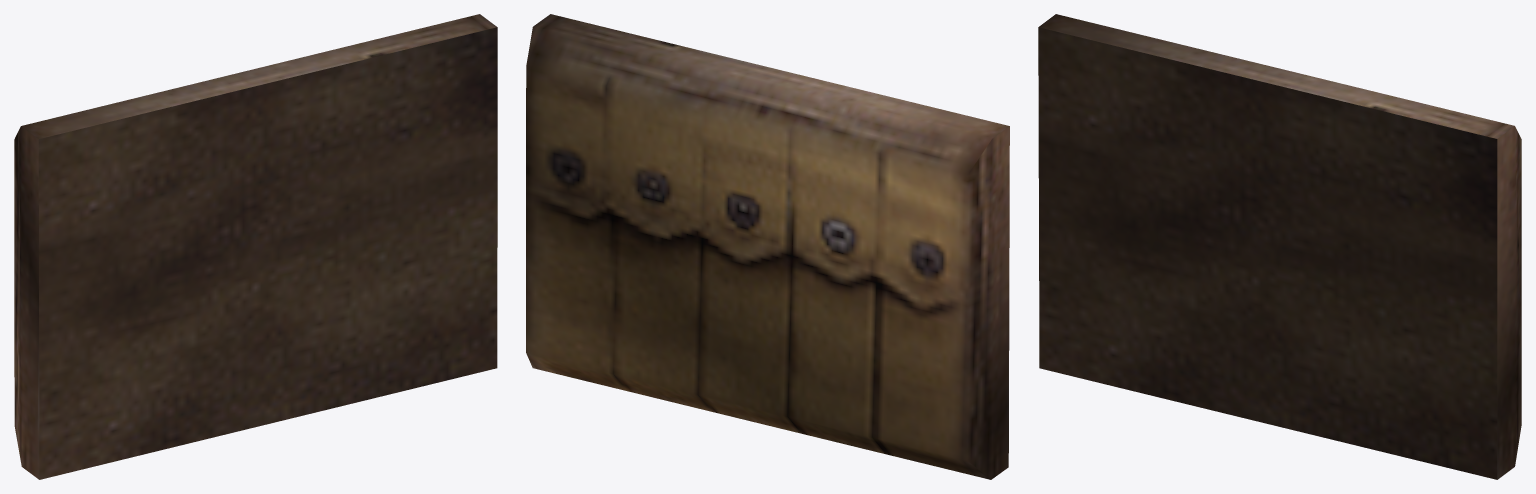
File: magazine bag.FBX
3 renders of one model, left to right at view 1: azimuth 30°, elevation 25°; view 2: azimuth 150°, elevation 25°; view 3: azimuth 330°, elevation 25°, orthographic.
Parts seen in each view (by area): view 1: magazines; view 2: magazines; view 3: magazines.
Boxes of the visible parts, bbox=[...] form: magazines: bbox=[14, 14, 497, 479]; magazines: bbox=[526, 14, 1009, 479]; magazines: bbox=[1038, 14, 1521, 479].
Bounding box in the file's own units: 0.2345 × 0.0293 × 0.1667.
